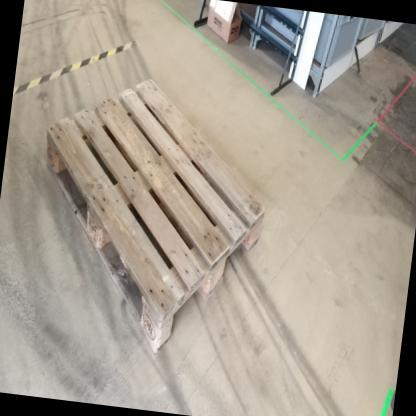BoxFace: (42, 73, 268, 363)
